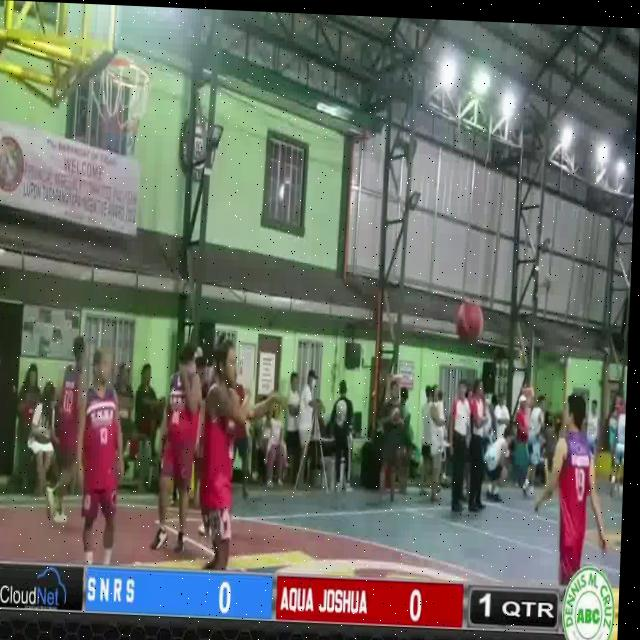basketball: (453, 294, 487, 354)
hoop: (86, 54, 153, 156)
